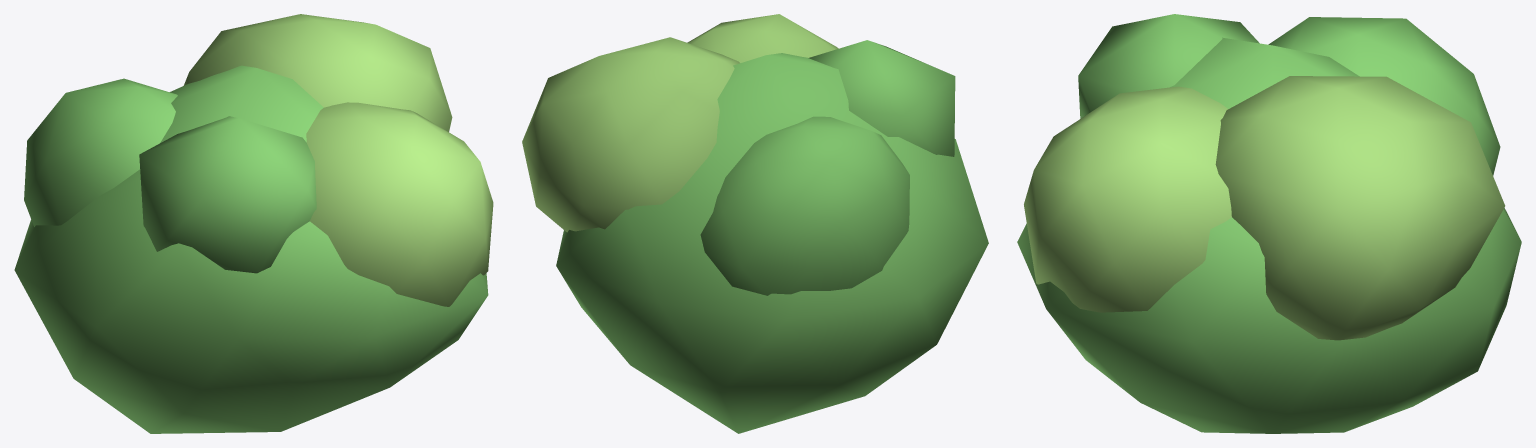
Rendered from bush_large.glb.
The picture shows the model from 3 angles, left to right: view 1: azimuth 30°, elevation 25°; view 2: azimuth 150°, elevation 25°; view 3: azimuth 270°, elevation 25°; orthographic projection. The views are drawn at different scales.
Visible parts, largest first — view 1: bushl_shrub_green, bushl_shrub_light; view 2: bushl_shrub_green, bushl_shrub_light; view 3: bushl_shrub_light, bushl_shrub_green.
Part boxes in pixels (x1,y1,x2,y2): bushl_shrub_green: (14, 65, 488, 433); bushl_shrub_light: (183, 14, 493, 306); bushl_shrub_green: (556, 40, 988, 433); bushl_shrub_light: (522, 14, 838, 232); bushl_shrub_light: (1024, 76, 1505, 340); bushl_shrub_green: (1017, 14, 1521, 433).
Size of the model in its own units: 2 by 1.66 by 1.96.
